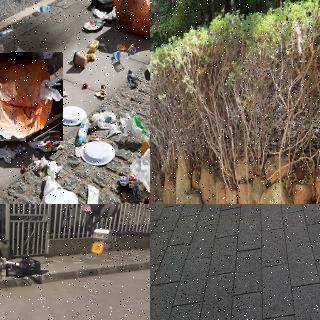Garbage: (0, 52, 63, 141), (111, 0, 150, 39), (19, 258, 44, 276), (6, 264, 25, 280), (0, 257, 5, 279)
